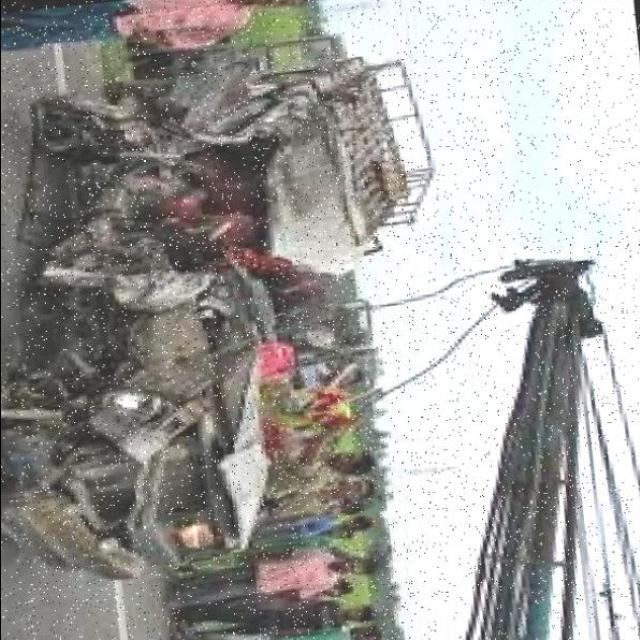accident: (1, 47, 447, 609)
